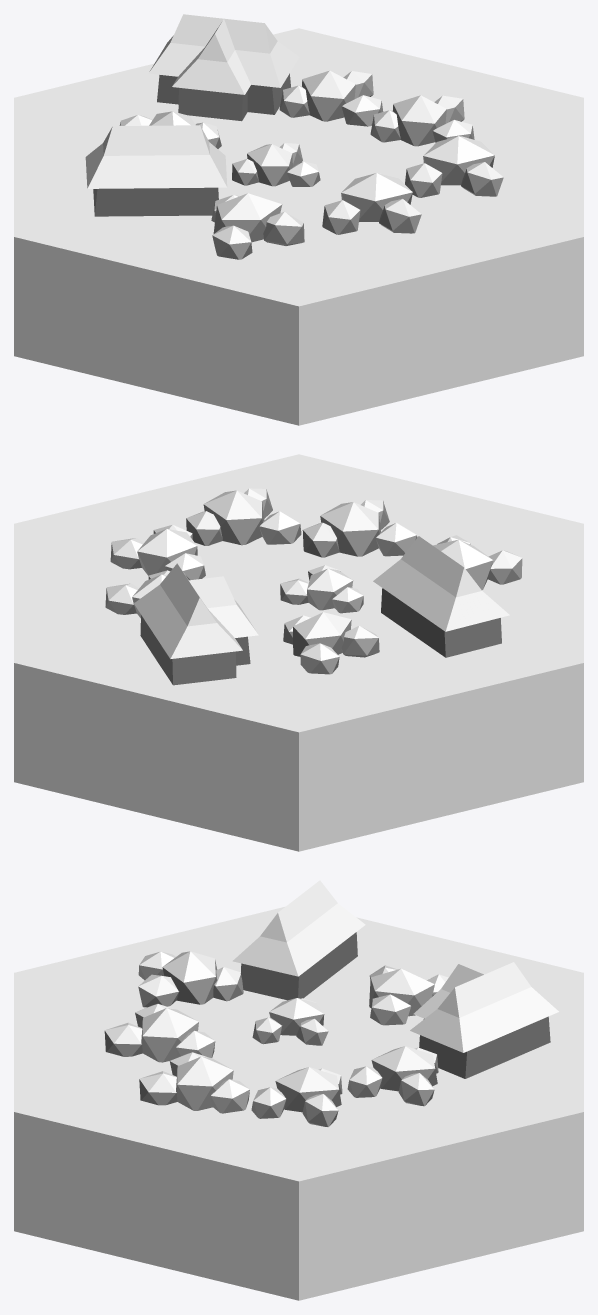
The model's file is Casas_Rocoso_Nieve_2.fbx.
3 renders of one model, top to bottom at view 1: azimuth 30°, elevation 25°; view 2: azimuth 150°, elevation 25°; view 3: azimuth 270°, elevation 25°, orthographic.
Parts seen in each view (by area): view 1: Casas_Rocoso_Nieve_2; view 2: Casas_Rocoso_Nieve_2; view 3: Casas_Rocoso_Nieve_2.
Boxes of the visible parts, x1,y1,x2,y2 form: Casas_Rocoso_Nieve_2: (14,14,583,425); Casas_Rocoso_Nieve_2: (14,454,583,851); Casas_Rocoso_Nieve_2: (14,880,583,1300).
Bounding box in the file's own units: 200 × 65.63 × 173.
